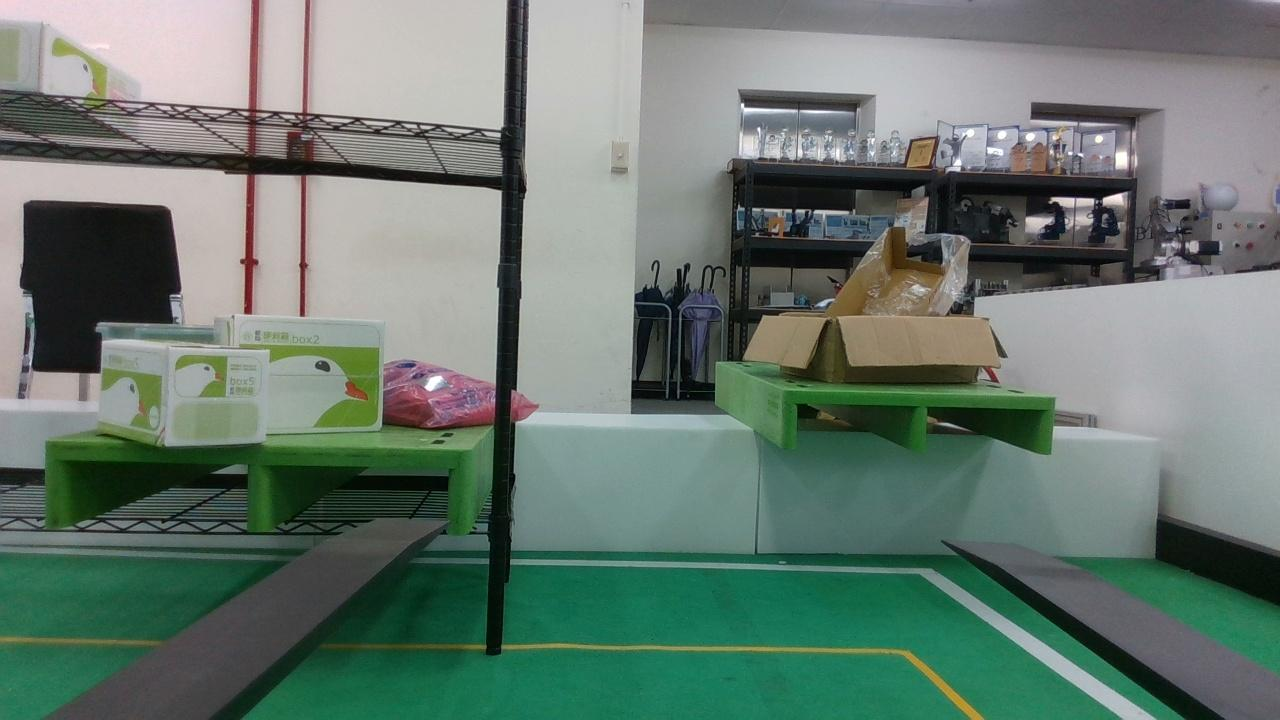Pallet: (46, 435, 479, 532), (784, 386, 1058, 454)
